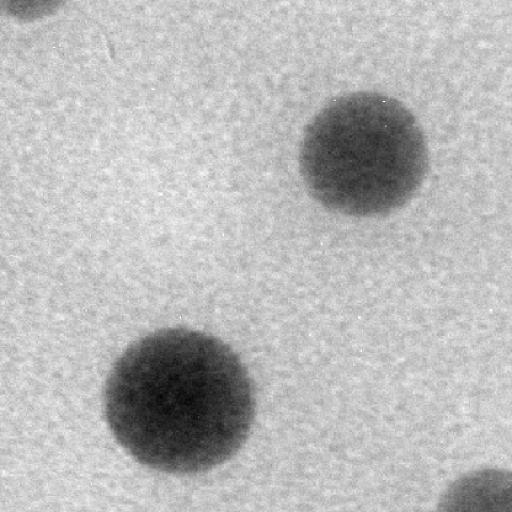Nanoparticles: (96, 320, 264, 478), (292, 89, 434, 223), (435, 466, 512, 511), (0, 0, 67, 28)
